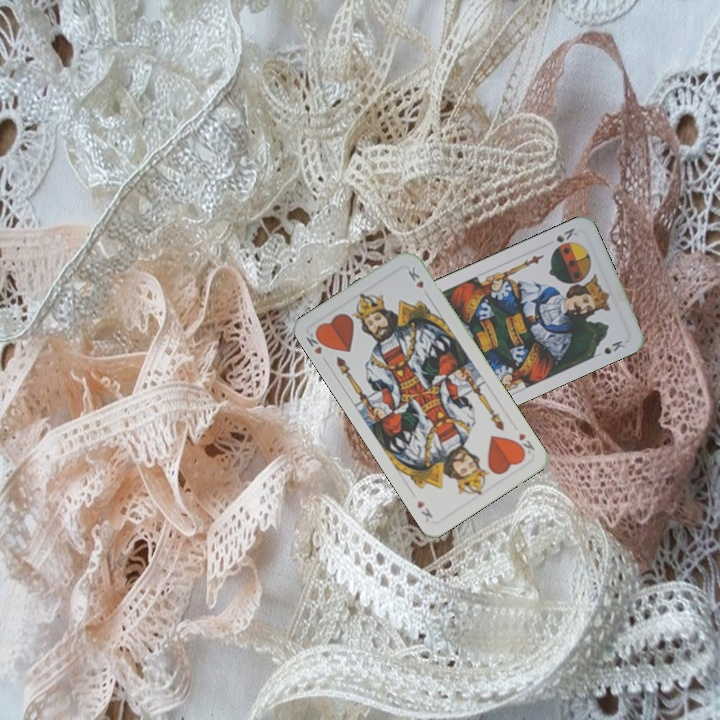HK: (302, 326, 330, 366), (511, 428, 537, 459)
SK: (552, 224, 580, 245)
